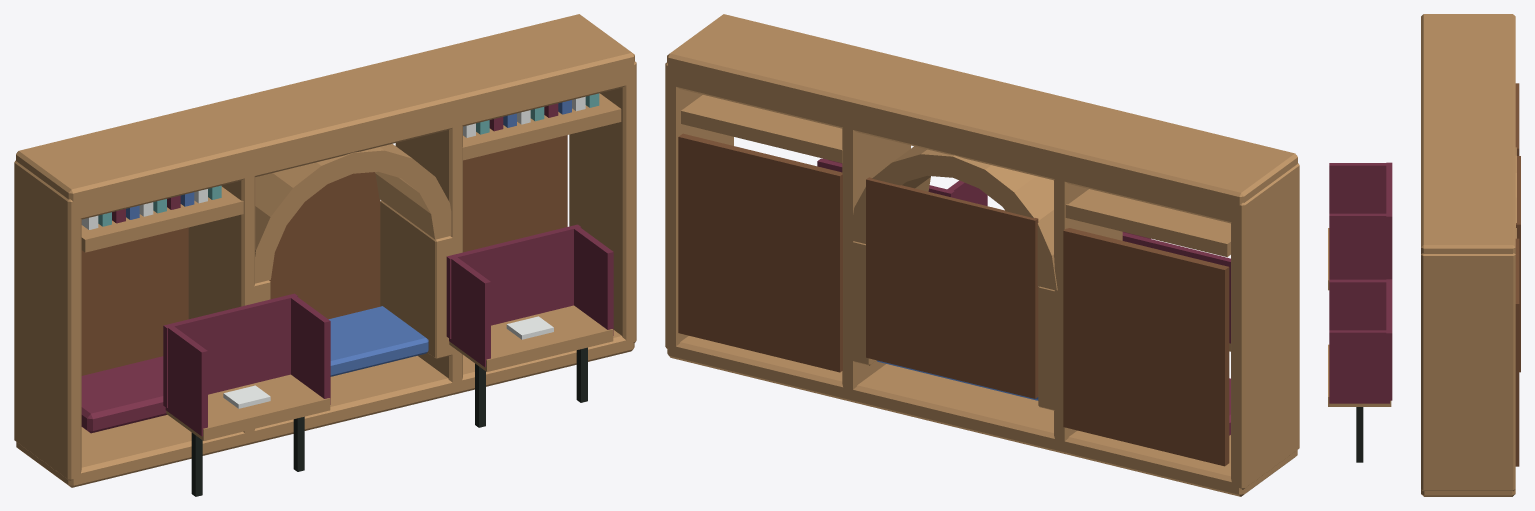
The model's file is gh_library_v01.glb.
The picture shows the model from 3 angles, left to right: view 1: azimuth 30°, elevation 25°; view 2: azimuth 150°, elevation 25°; view 3: azimuth 270°, elevation 25°; orthographic projection. The views are drawn at different scales.
Visible parts, largest first — view 1: Pale oak sit-in library and burgundy carrels; view 2: Pale oak sit-in library and burgundy carrels; view 3: Pale oak sit-in library and burgundy carrels.
Part boxes in pixels (x1,y1,x2,y2): Pale oak sit-in library and burgundy carrels: [14, 14, 636, 496]; Pale oak sit-in library and burgundy carrels: [665, 14, 1299, 496]; Pale oak sit-in library and burgundy carrels: [1328, 14, 1520, 496].
Bounding box in the file's own units: 6.03 × 3.02 × 2.1.
Materials: 1 (1 with a texture image).
